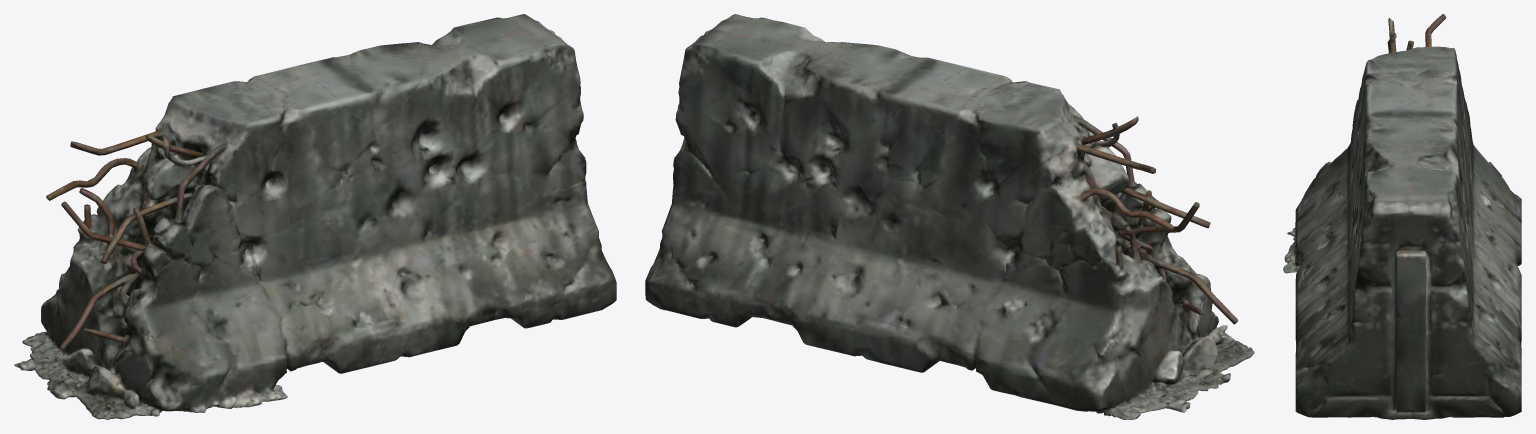
File: barricade.glb
3 renders of one model, left to right at view 1: azimuth 30°, elevation 25°; view 2: azimuth 150°, elevation 25°; view 3: azimuth 270°, elevation 25°, orthographic. The views are drawn at different scales.
Bounding box in the file's own units: 1.9 × 0.8494 × 0.8325.
Materials: 1 (1 with a texture image).
